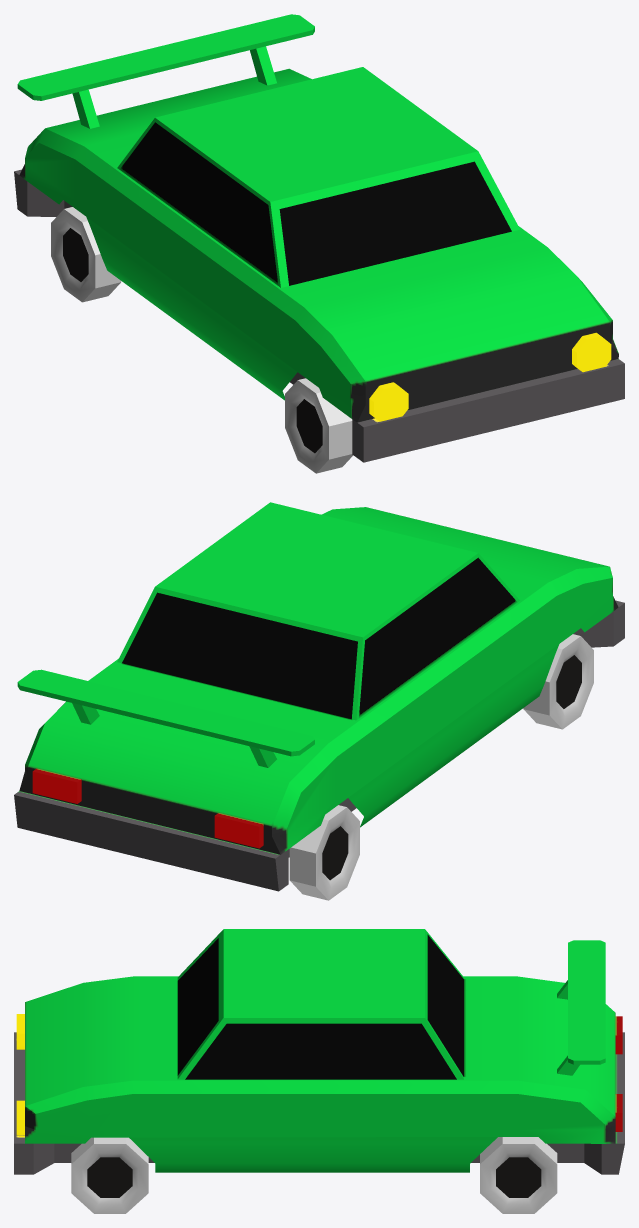
Rendered from Green car.fbx.
3 views of the same model, one above another, from view 1: azimuth 30°, elevation 25°; view 2: azimuth 150°, elevation 25°; view 3: azimuth 270°, elevation 25° (orthographic). The views are drawn at different scales.
Visible parts, largest first — view 1: Nissan car; view 2: Nissan car; view 3: Nissan car.
Boxes of the visible parts, box(x1,y1,x2,y2) form: Nissan car: box(14, 14, 624, 473); Nissan car: box(14, 502, 624, 900); Nissan car: box(14, 929, 624, 1213).
Bounding box in the file's own units: 183 × 131 × 393.
1 material, 1 textured.
